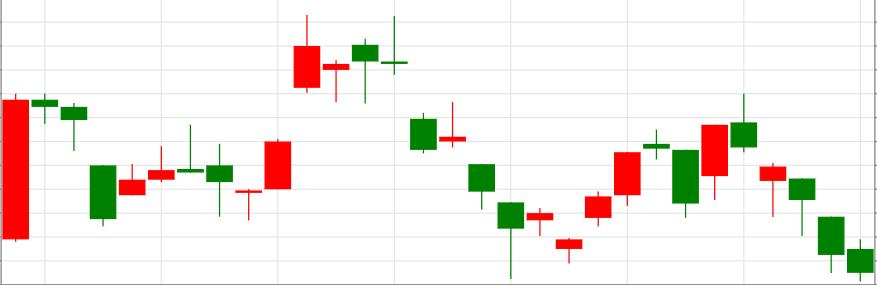evening_star_fall: (556, 130, 698, 262)
